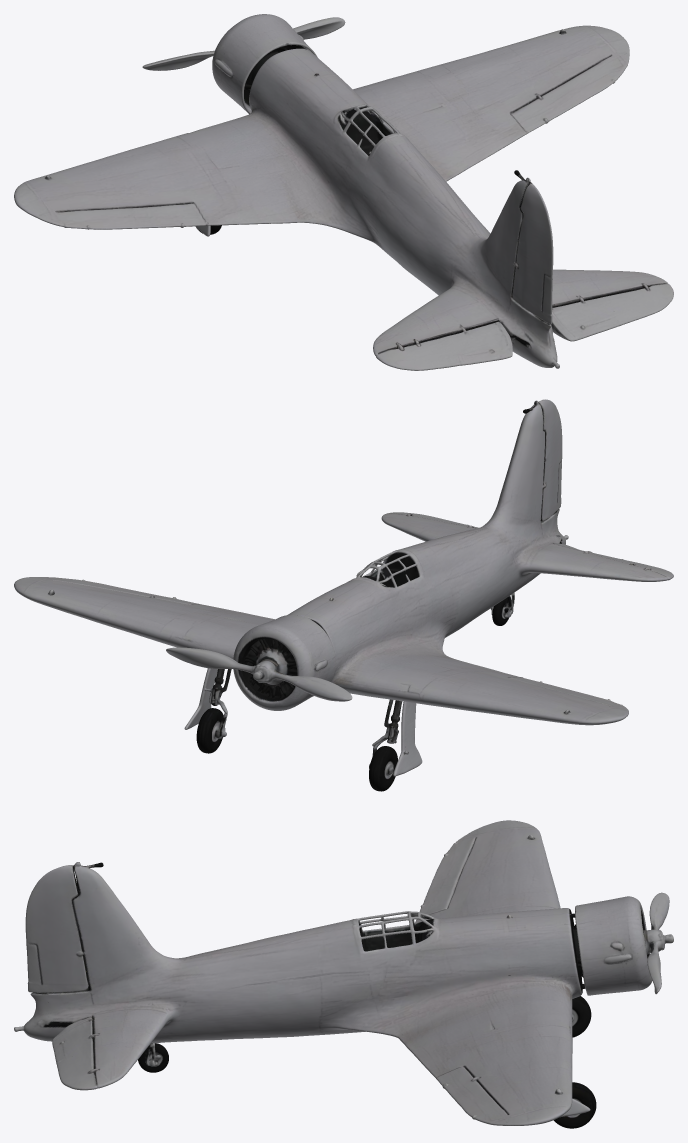
File: hughes-h1.glb
3 renders of one model, top to bottom at view 1: azimuth 30°, elevation 25°; view 2: azimuth 150°, elevation 25°; view 3: azimuth 270°, elevation 25°, orthographic. The views are drawn at different scales.
Parts seen in each view (by area): view 1: tripo_node_7ccf9eb6-9e29-4698-9041-e6274b1635cd; view 2: tripo_node_7ccf9eb6-9e29-4698-9041-e6274b1635cd; view 3: tripo_node_7ccf9eb6-9e29-4698-9041-e6274b1635cd.
Part boxes in pixels (x1,y1,x2,y2): tripo_node_7ccf9eb6-9e29-4698-9041-e6274b1635cd: (14, 14, 673, 370); tripo_node_7ccf9eb6-9e29-4698-9041-e6274b1635cd: (14, 399, 673, 791); tripo_node_7ccf9eb6-9e29-4698-9041-e6274b1635cd: (14, 820, 673, 1128).
Bounding box in the file's own units: 9.68 × 3.19 × 8.79.
1 material, 1 textured.
